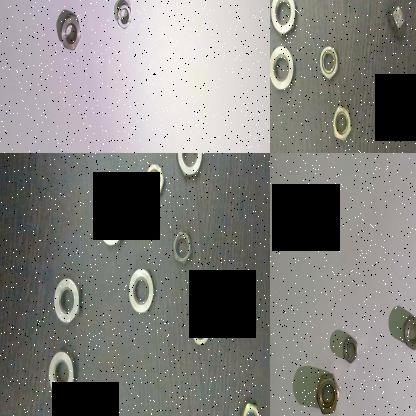NUTS: (54, 272, 87, 333), (46, 346, 83, 398), (96, 198, 128, 256), (126, 258, 154, 322), (270, 40, 297, 96), (171, 221, 197, 272), (270, 0, 298, 45), (315, 370, 341, 416), (189, 308, 217, 350), (173, 153, 209, 183), (330, 102, 352, 149), (59, 10, 82, 54), (146, 158, 168, 204), (318, 43, 340, 83), (387, 0, 407, 44), (402, 311, 416, 355), (115, 0, 133, 33), (238, 397, 266, 416), (342, 336, 358, 366)
